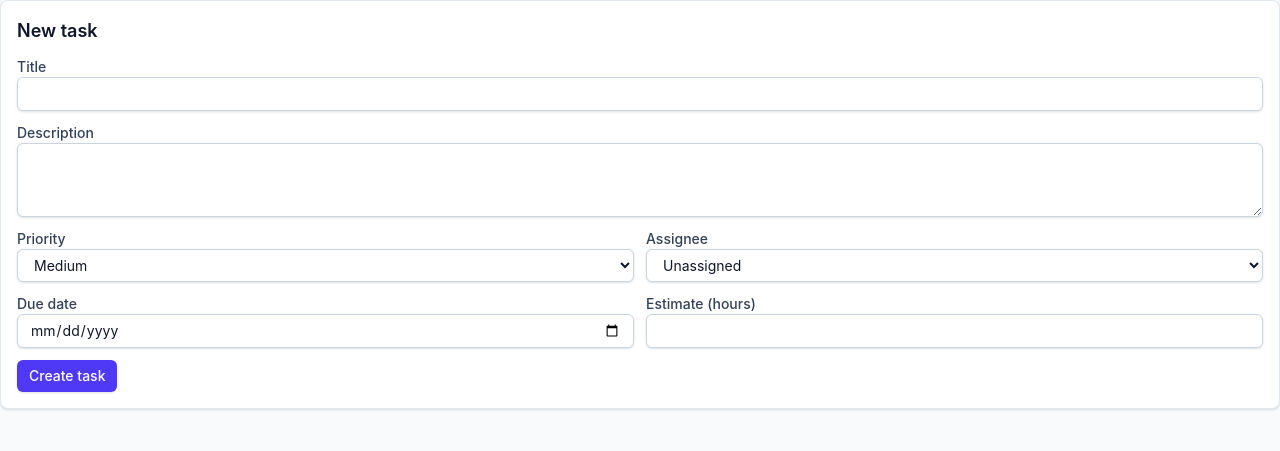
CreateTaskForm validation › rejects a fractional estimate
In the field labelled "Title": {"x": 640, "y": 94} [17,77,1263,111], type "Valid title"
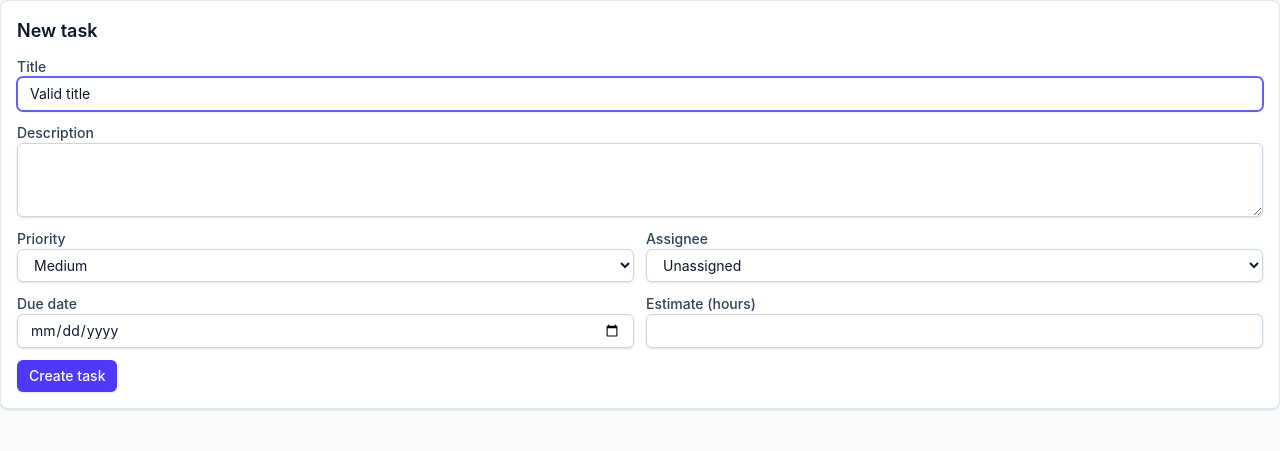
In the number field labelled "Estimate (hours)": {"x": 954, "y": 331} [646,314,1263,348], type "2.5"
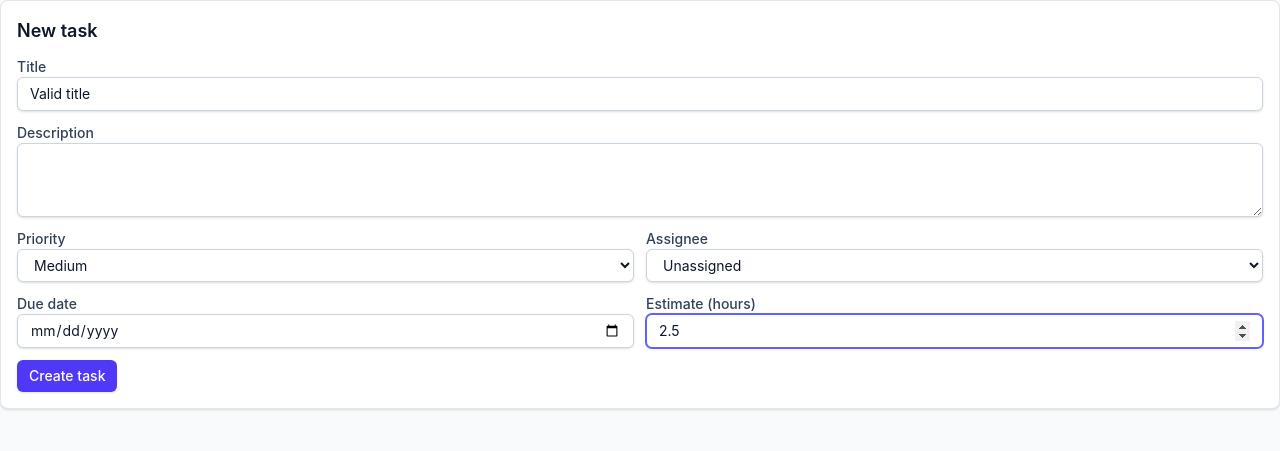
Click the button "Create task": {"x": 67, "y": 376} [17,360,118,392]
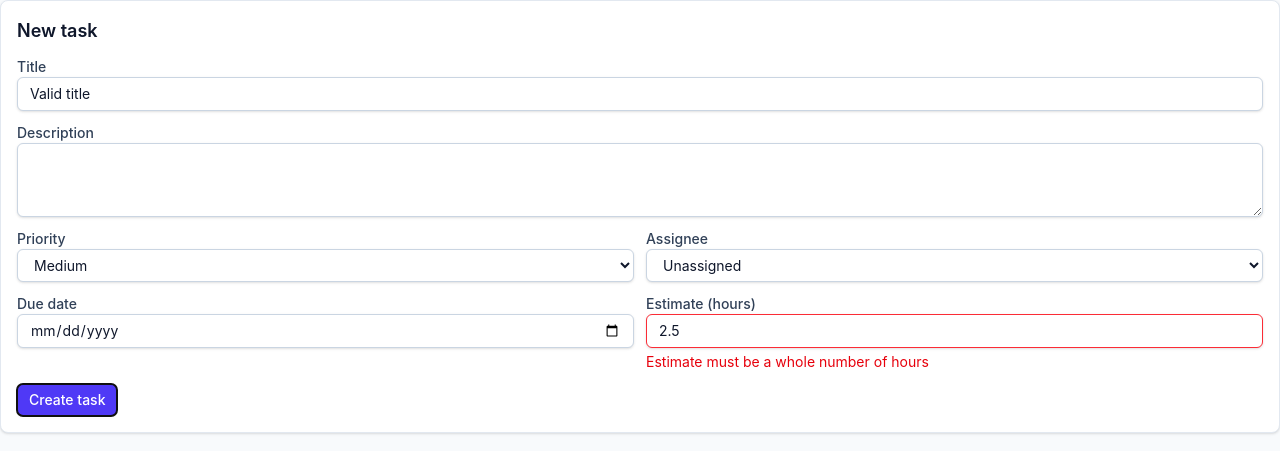
Result: the text "Estimate must be a whole number of hours" is shown at [646,353,929,370]
